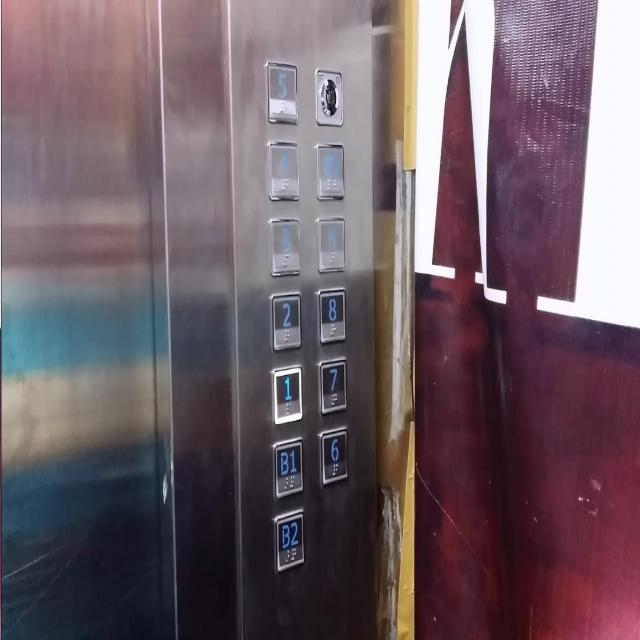1: (270, 361, 304, 427)
2: (269, 287, 302, 353)
3: (268, 213, 302, 280)
4: (266, 137, 300, 203)
5: (263, 58, 299, 127)
6: (316, 423, 348, 489)
7: (316, 353, 348, 419)
8: (314, 283, 348, 349)
B1: (269, 432, 306, 503)
B2: (270, 505, 308, 576)
blur: (312, 138, 347, 205), (314, 212, 347, 278)
bt_keyhole: (310, 62, 346, 131)
